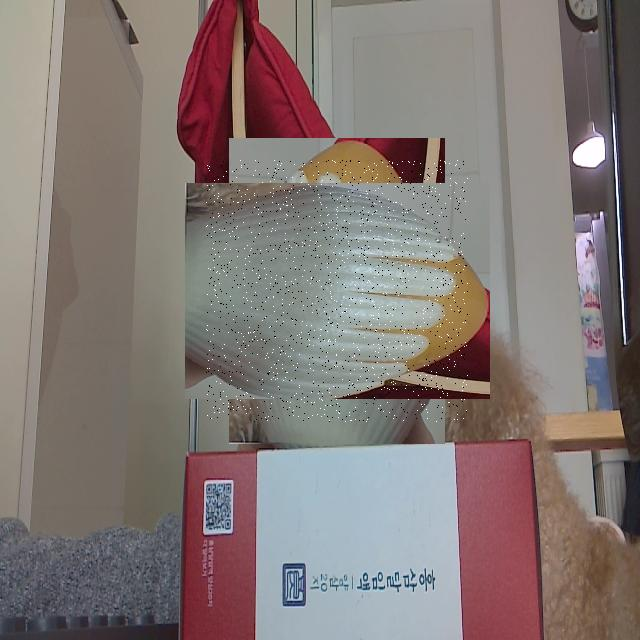pear: (206, 160, 468, 422)
